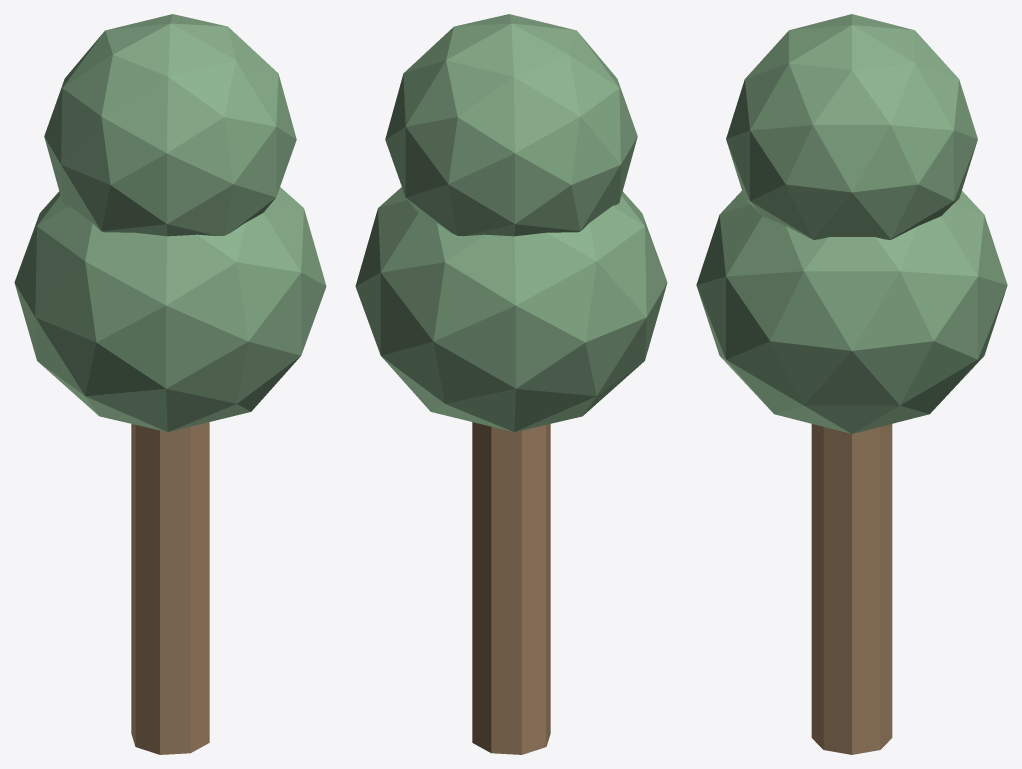
3 views of the same model, side by side, from view 1: azimuth 30°, elevation 25°; view 2: azimuth 150°, elevation 25°; view 3: azimuth 270°, elevation 25° (orthographic).
Parts seen in each view (by area): view 1: Crown.Low, Crown.High, Trunk; view 2: Crown.Low, Crown.High, Trunk; view 3: Crown.Low, Crown.High, Trunk.
Part boxes in pixels (<box>): Crown.Low: <box>14,187,326,432</box>; Crown.High: <box>44,14,296,236</box>; Trunk: <box>131,422,209,754</box>; Crown.Low: <box>355,187,667,432</box>; Crown.High: <box>385,14,637,236</box>; Trunk: <box>472,422,550,754</box>; Crown.Low: <box>696,191,1007,433</box>; Crown.High: <box>726,14,977,239</box>; Trunk: <box>811,424,892,754</box>.
Bounding box in the file's own units: 2.7 × 6.83 × 2.7.
